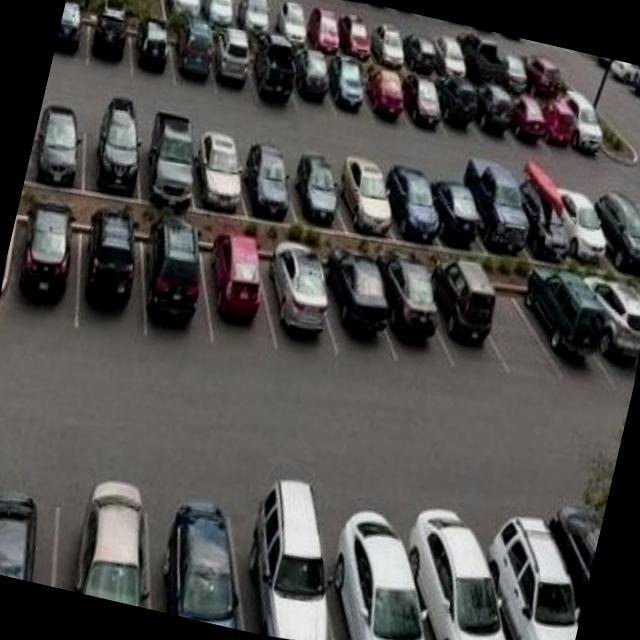car: (371, 491, 540, 640), (298, 500, 461, 640), (226, 484, 372, 640), (451, 494, 601, 640), (136, 484, 274, 630), (503, 252, 627, 398), (116, 214, 236, 360), (41, 482, 178, 608), (56, 209, 172, 355), (512, 473, 610, 640), (409, 244, 520, 382), (180, 226, 292, 360), (242, 236, 354, 370), (0, 200, 97, 345), (362, 245, 466, 378), (307, 244, 412, 372), (561, 256, 640, 396), (460, 150, 552, 267), (500, 162, 592, 276), (542, 165, 630, 278), (74, 91, 158, 209), (131, 106, 213, 218), (372, 152, 456, 259), (328, 150, 412, 254), (421, 154, 502, 260), (0, 483, 81, 589), (22, 88, 98, 199), (280, 139, 359, 244), (230, 130, 308, 236), (186, 121, 264, 227), (578, 169, 640, 285), (160, 8, 227, 96), (240, 27, 307, 114), (118, 6, 184, 90), (204, 21, 268, 104), (78, 0, 146, 77), (283, 37, 346, 119), (389, 64, 452, 143), (465, 73, 527, 150), (562, 85, 622, 164), (357, 56, 418, 132), (318, 48, 378, 125), (498, 81, 558, 156), (430, 68, 490, 142), (452, 26, 517, 93), (531, 85, 588, 161), (422, 19, 480, 85), (486, 34, 544, 99), (50, 0, 100, 74), (393, 14, 449, 80), (519, 40, 578, 102), (360, 8, 414, 74), (328, 1, 382, 65), (297, 0, 350, 60), (263, 0, 318, 52), (229, 0, 285, 43), (617, 176, 640, 280), (191, 0, 244, 35), (156, 0, 212, 30), (382, 6, 425, 22), (490, 32, 534, 46)
free: (463, 260, 572, 390)
